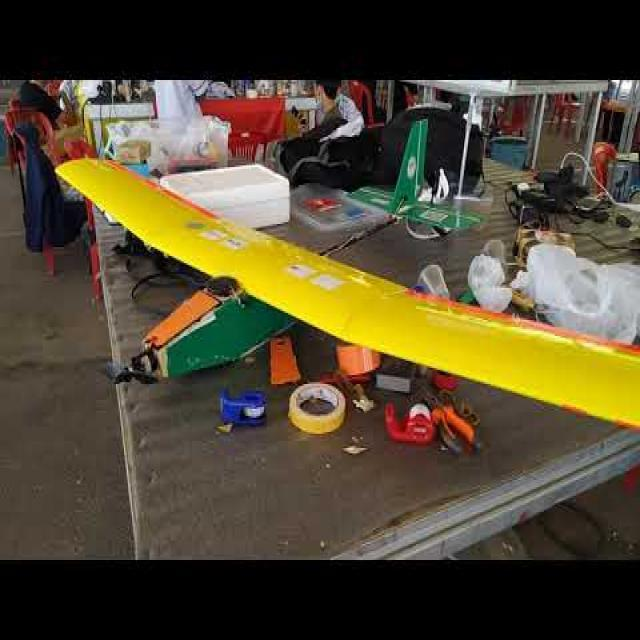iha: (19, 108, 634, 441)
